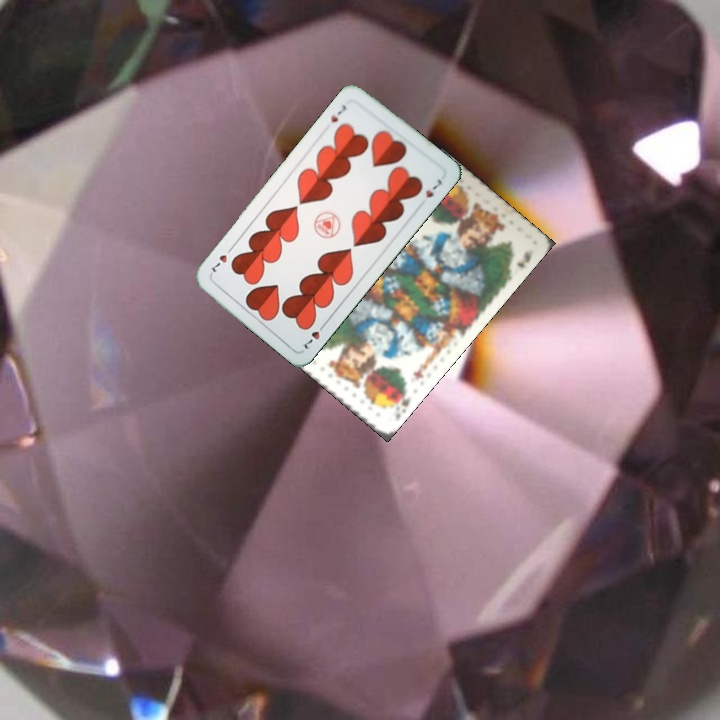H7: (300, 318, 329, 352), (326, 100, 349, 125)
SK: (395, 385, 413, 415)
